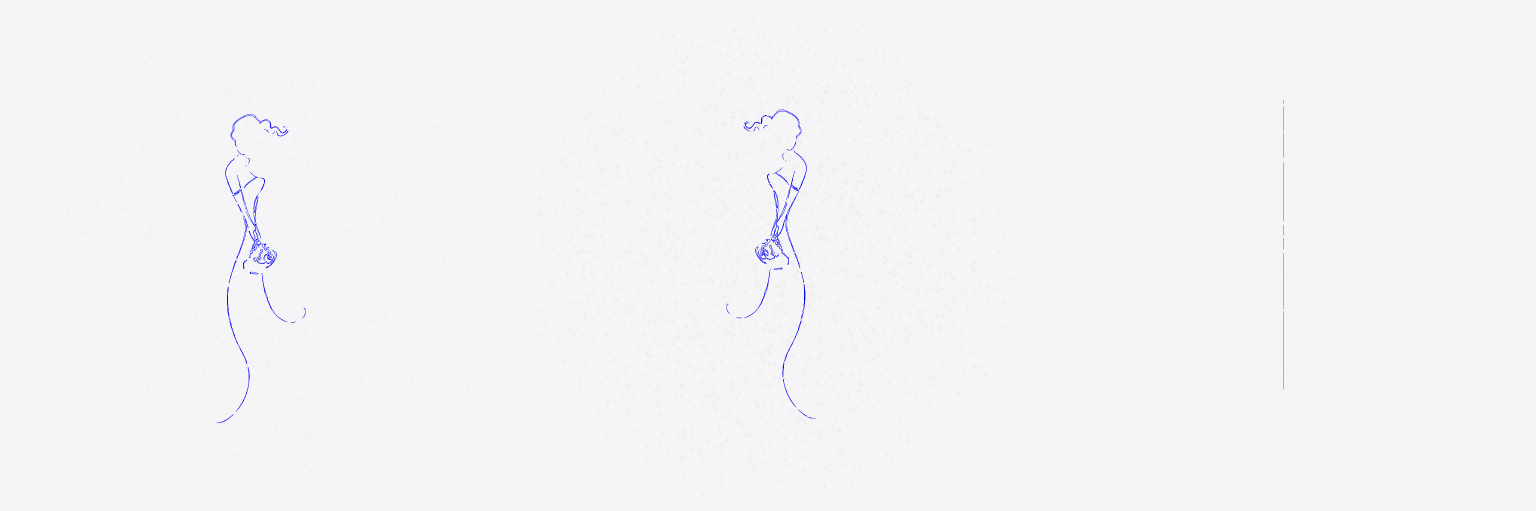
The picture shows the model from 3 angles, left to right: view 1: azimuth 30°, elevation 25°; view 2: azimuth 150°, elevation 25°; view 3: azimuth 270°, elevation 25°; orthographic projection.
Bounding box in the file's own units: 1.45 × 1.46 × 1.46.
